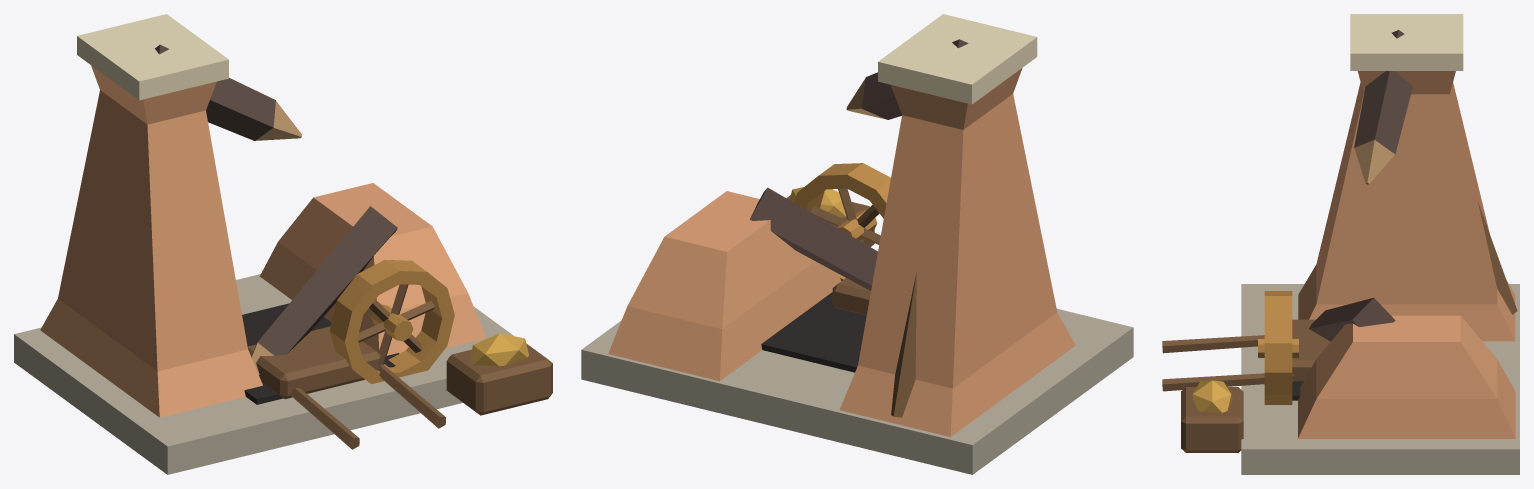
File: ns-pillaged-mine-hoist.glb
3 renders of one model, left to right at view 1: azimuth 30°, elevation 25°; view 2: azimuth 150°, elevation 25°; view 3: azimuth 270°, elevation 25°, orthographic. The views are drawn at different scales.
Parts seen in each view (by area): view 1: Work profile; view 2: Work profile; view 3: Work profile.
Boxes of the visible parts, x1=… form: Work profile: x1=14, y1=14, x2=552, y2=474; Work profile: x1=581, y1=14, x2=1133, y2=474; Work profile: x1=1162, y1=14, x2=1519, y2=474.
Bounding box in the file's own units: 0.536 × 0.4769 × 0.4906.
